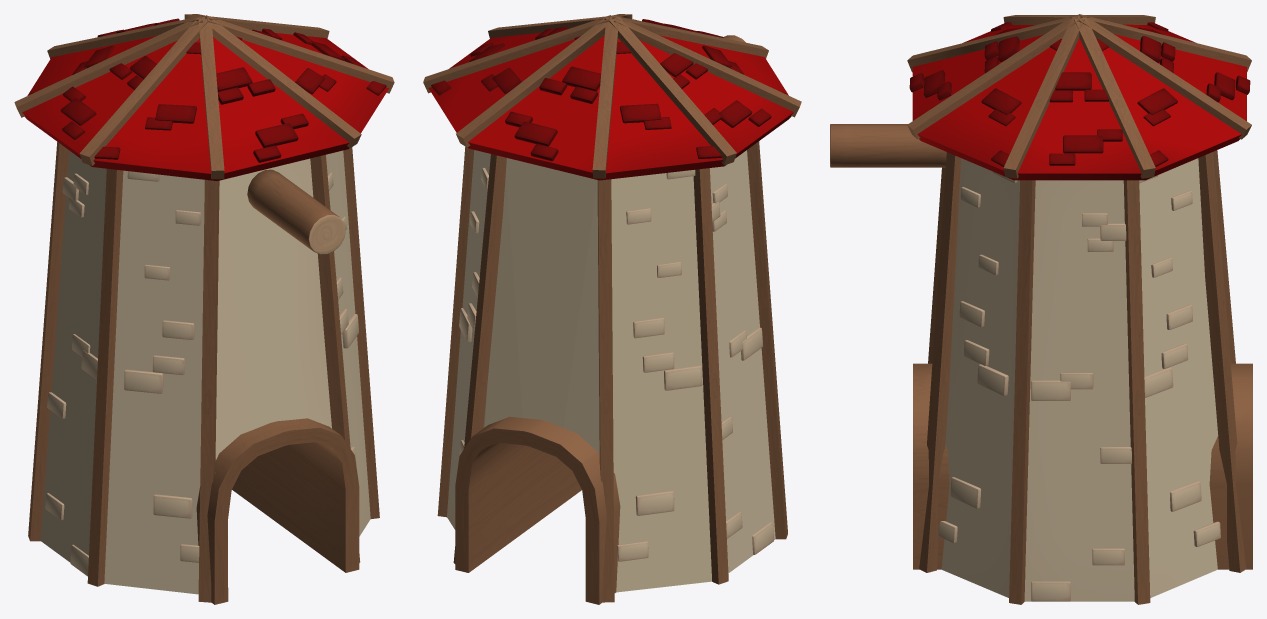
The model's file is SM_WindmilBase.fbx.
3 views of the same model, side by side, from view 1: azimuth 30°, elevation 25°; view 2: azimuth 150°, elevation 25°; view 3: azimuth 270°, elevation 25° (orthographic).
Parts seen in each view (by area): view 1: Base; view 2: Base; view 3: Base.
Boxes of the visible parts, x1=… form: Base: x1=14, y1=14, x2=394, y2=604; Base: x1=423, y1=14, x2=801, y2=604; Base: x1=830, y1=14, x2=1252, y2=604.
Size of the model in its own units: 5.58 by 8.68 by 6.43.
